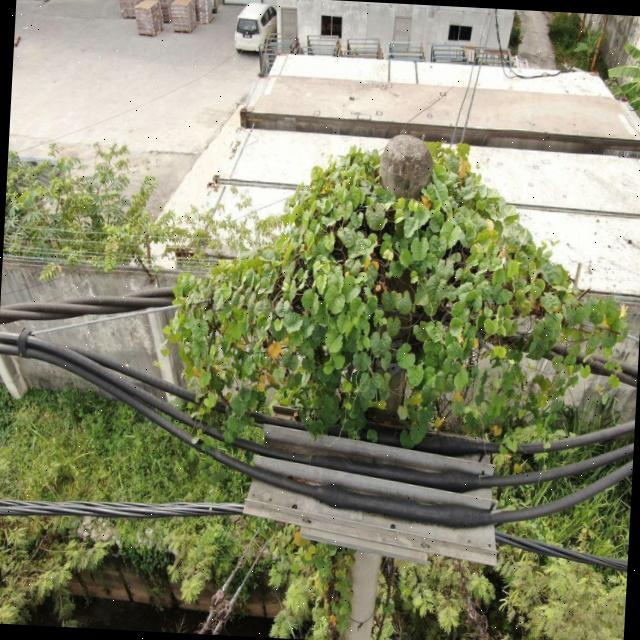critical vegetation: (137, 107, 640, 498)
